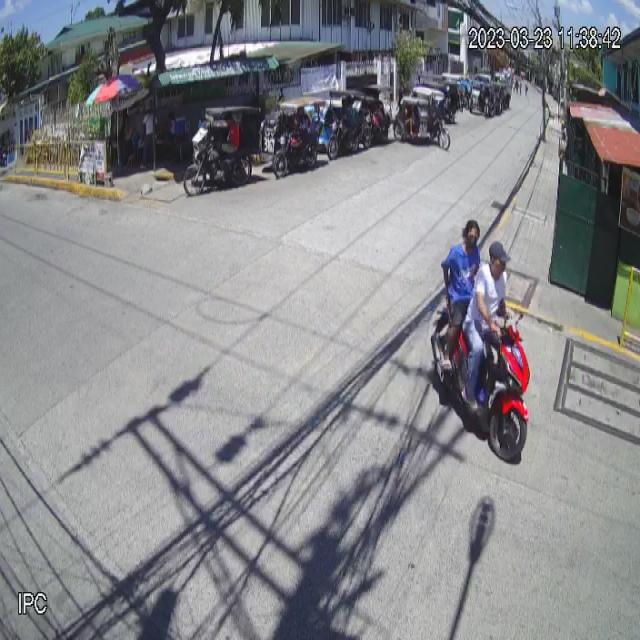Motorcycle: (429, 303, 531, 464)
